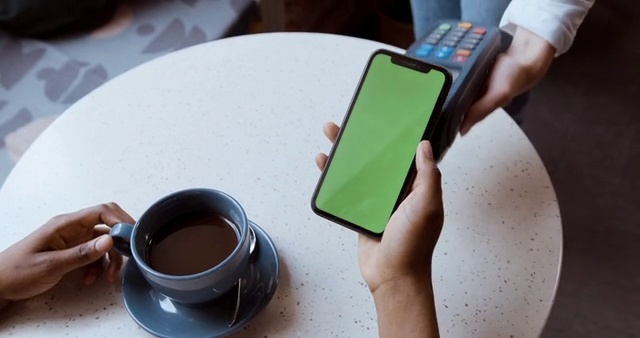phone: (308, 46, 455, 240)
